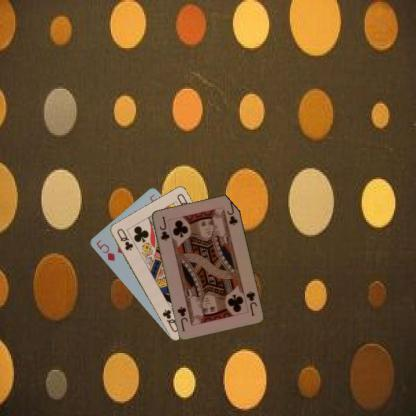5d: (93, 237, 116, 262)
Jc: (243, 288, 258, 318), (156, 214, 170, 242)
Qc: (114, 226, 134, 252)
